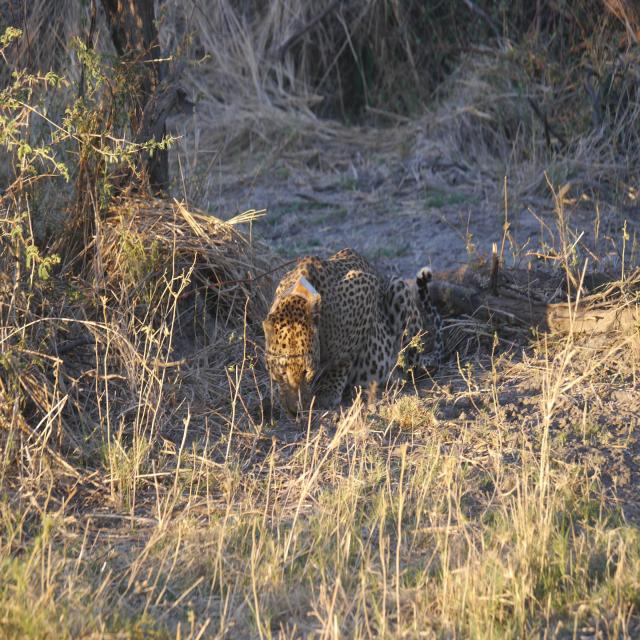Leopard: (262, 247, 445, 423)
